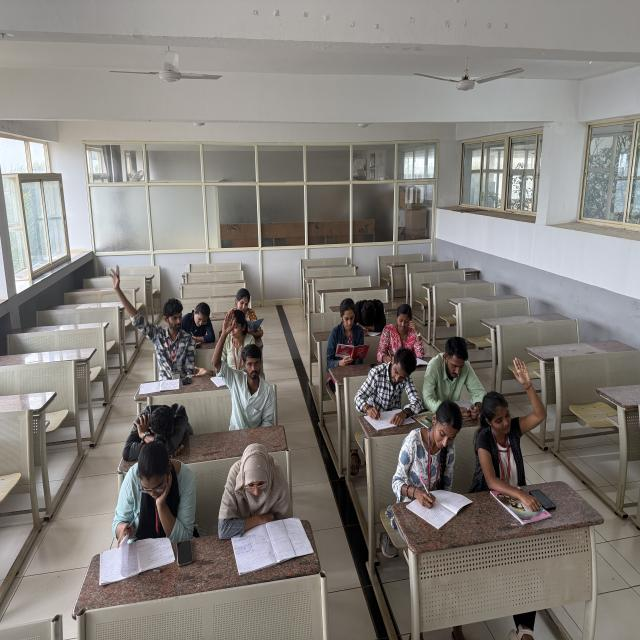Hand Rising: (476, 355, 553, 487), (108, 258, 194, 371), (210, 308, 269, 418)
Reading: (212, 440, 306, 554), (324, 296, 371, 369)
Sleeping: (118, 399, 197, 460), (352, 285, 390, 337)
Writing: (103, 443, 195, 546), (398, 398, 474, 518), (351, 343, 424, 420), (381, 305, 431, 364), (178, 299, 217, 345)
